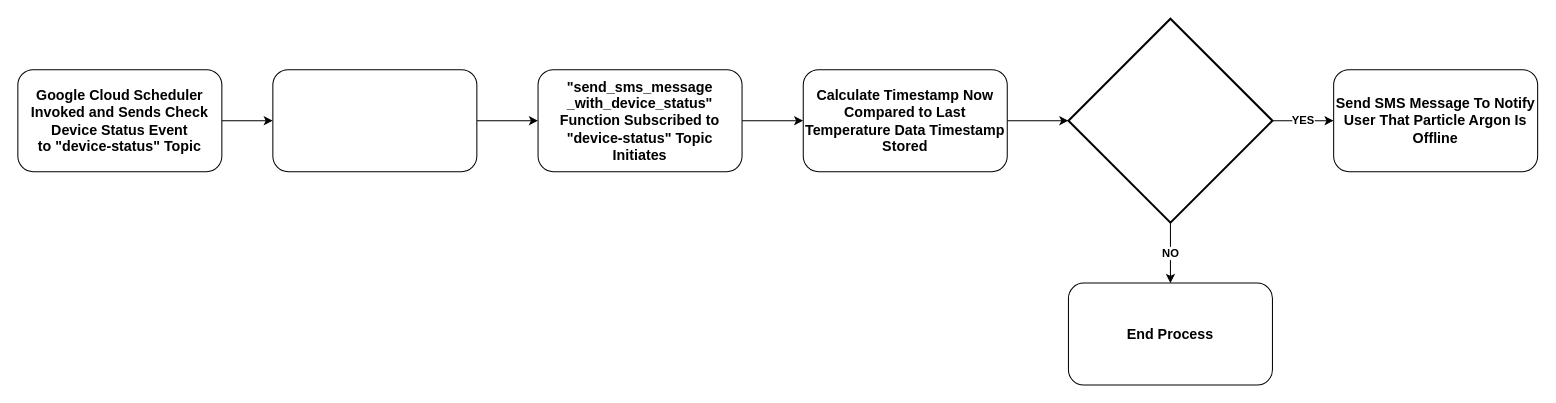
Some shapes in this 1556 by 403 pixel diagram are drawn without their labels. Here are the shapes that lost their labels. From the top down, the centre of each, then its label:
pixel 374 120: "device-status" Topic Receives Check Device Status Event
pixel 1170 120: Timestamp Difference Less Than One Hour?
